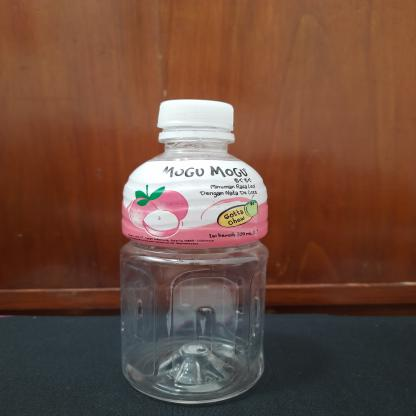bottle: (110, 95, 273, 406)
